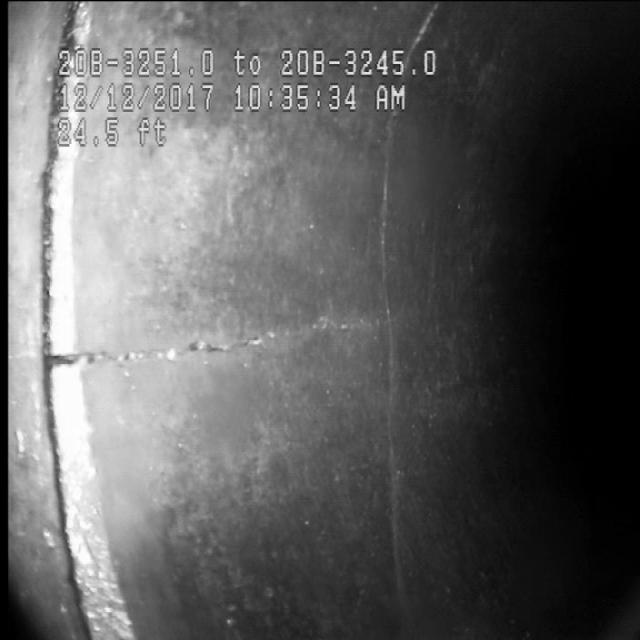Crack: (90, 280, 352, 392)
